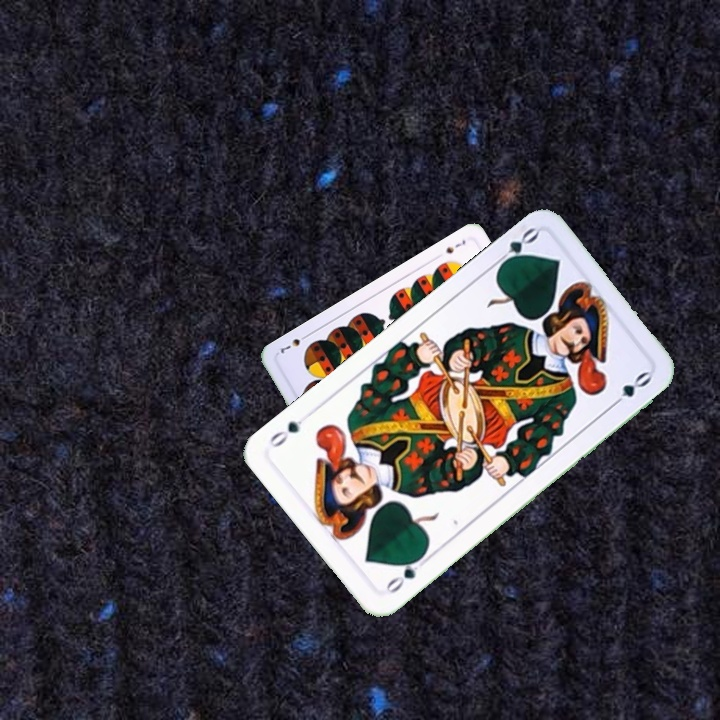GO: (489, 223, 541, 272), (380, 551, 431, 596)
S7: (442, 235, 468, 256)
